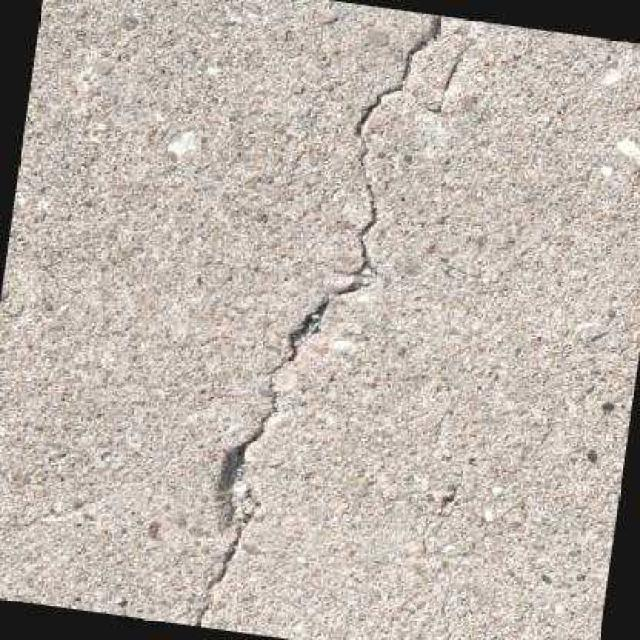D00: (193, 13, 441, 626)
